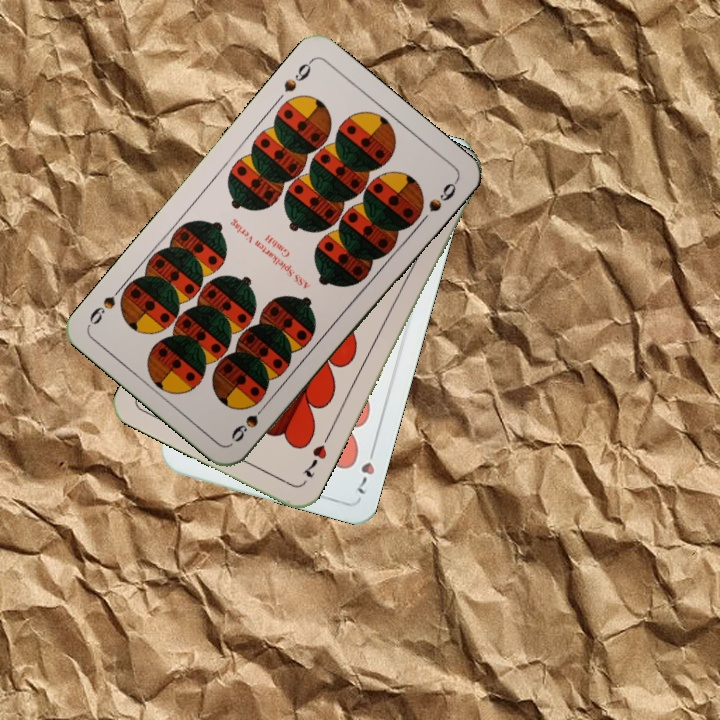H7: (297, 431, 332, 481), (353, 441, 379, 497)
S9: (227, 396, 272, 445), (279, 55, 316, 95)
